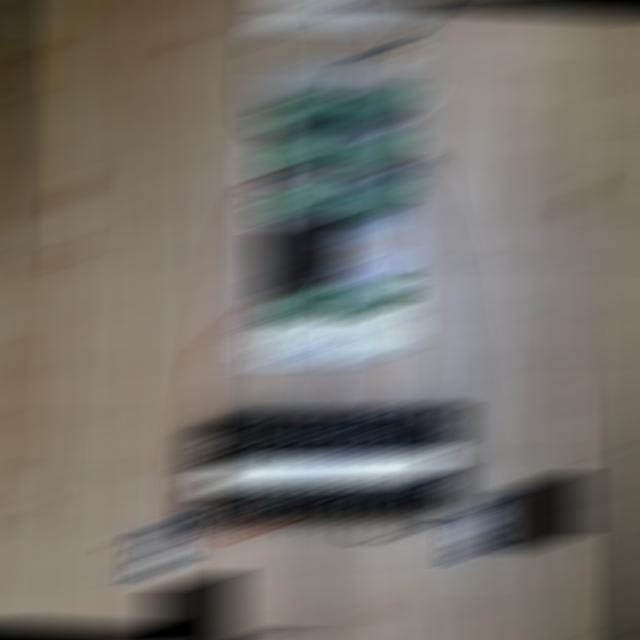Flathead_Block: (184, 419, 464, 527)
Terminal_1: (269, 287, 339, 313), (337, 284, 406, 310)
Terminal_2: (265, 138, 333, 164), (265, 185, 331, 210), (342, 139, 408, 164), (342, 93, 409, 117), (341, 187, 407, 211)
